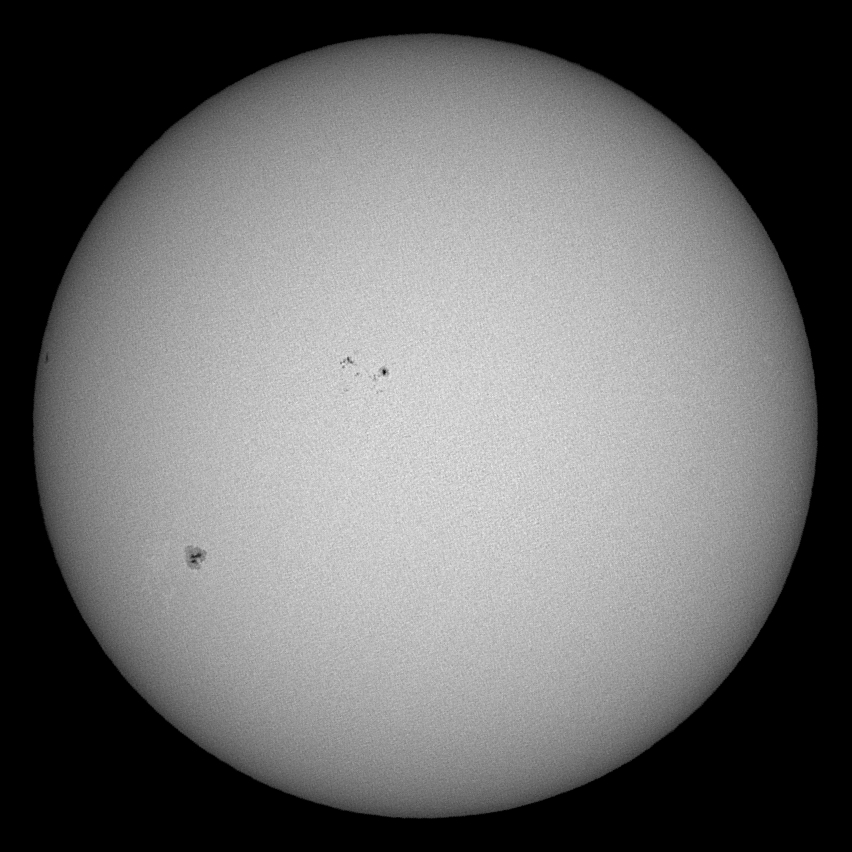sunspot: (339, 349, 391, 393), (182, 543, 211, 570)
